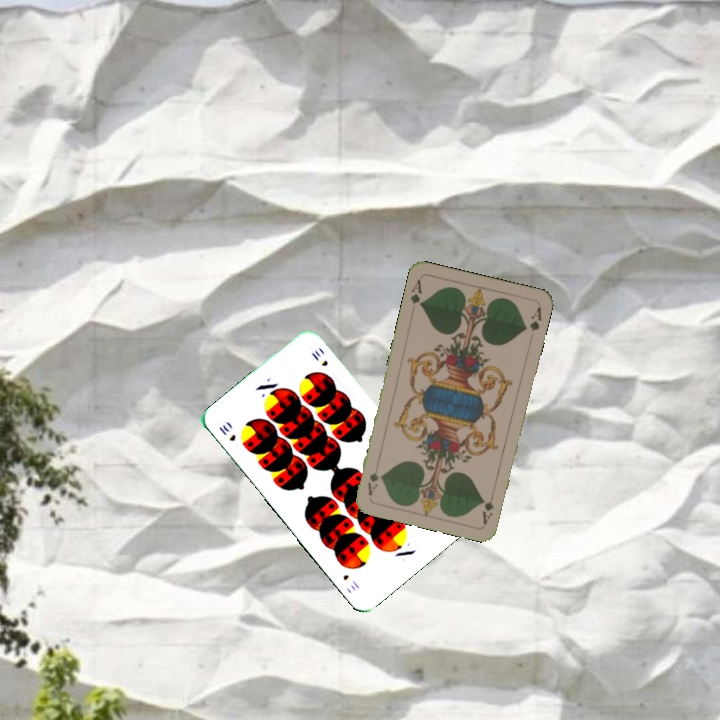GA: (478, 486, 497, 527), (406, 275, 425, 315)
S10: (215, 420, 238, 444)
